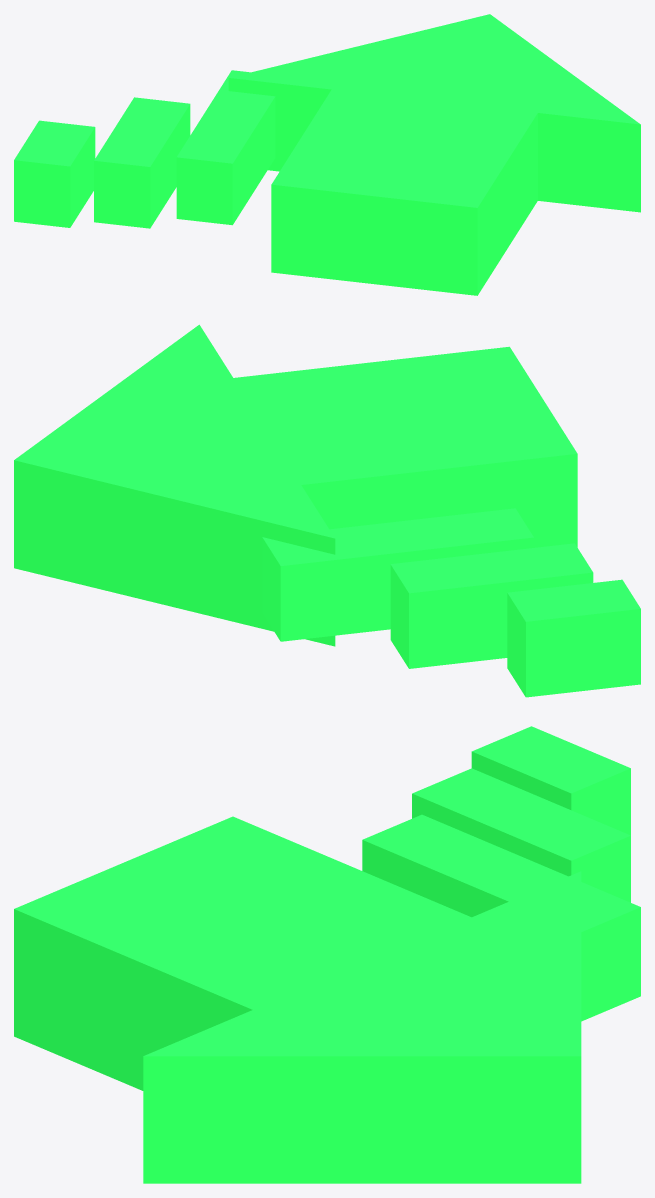
Rendered from pu_speed.glb.
The picture shows the model from 3 angles, top to bottom: view 1: azimuth 30°, elevation 25°; view 2: azimuth 150°, elevation 25°; view 3: azimuth 270°, elevation 25°; orthographic projection. The views are drawn at different scales.
Parts seen in each view (by area): view 1: pu_speed; view 2: pu_speed; view 3: pu_speed.
Part boxes in pixels (<box>): pu_speed: <box>14,14,640,295</box>; pu_speed: <box>14,324,640,697</box>; pu_speed: <box>14,726,640,1183</box>.
Size of the model in its own units: 0.5869 by 0.1 by 0.4455.
